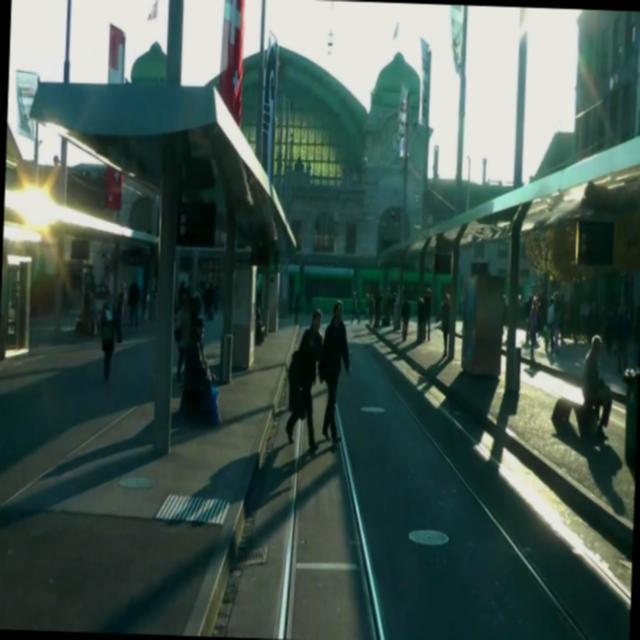rail: (252, 319, 413, 638)
